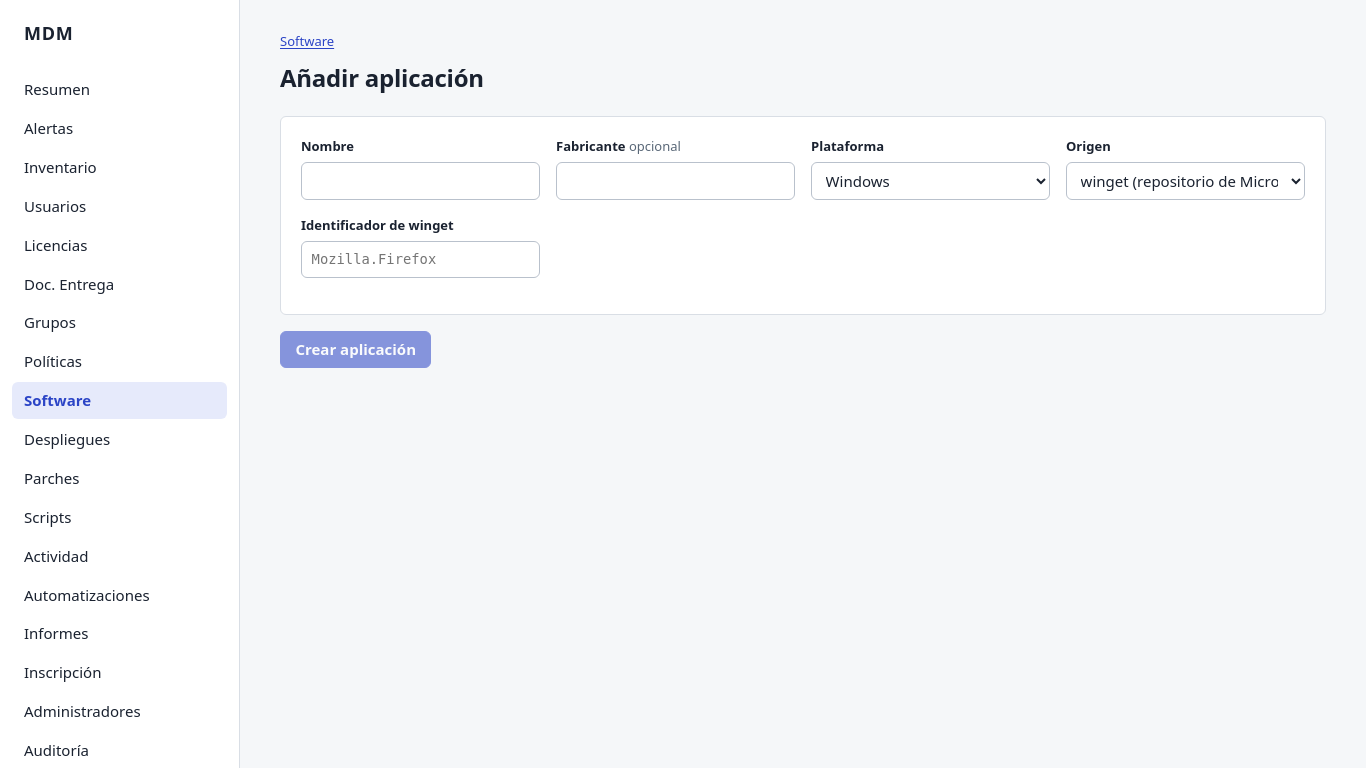
Scenario: Software › el origen se limita según la plataforma
Expected: the option "apt" is not shown
Select "Linux" in the dropdown labelled "Plataforma" at (930, 181), box x1=811 y1=162 x2=1050 y2=200
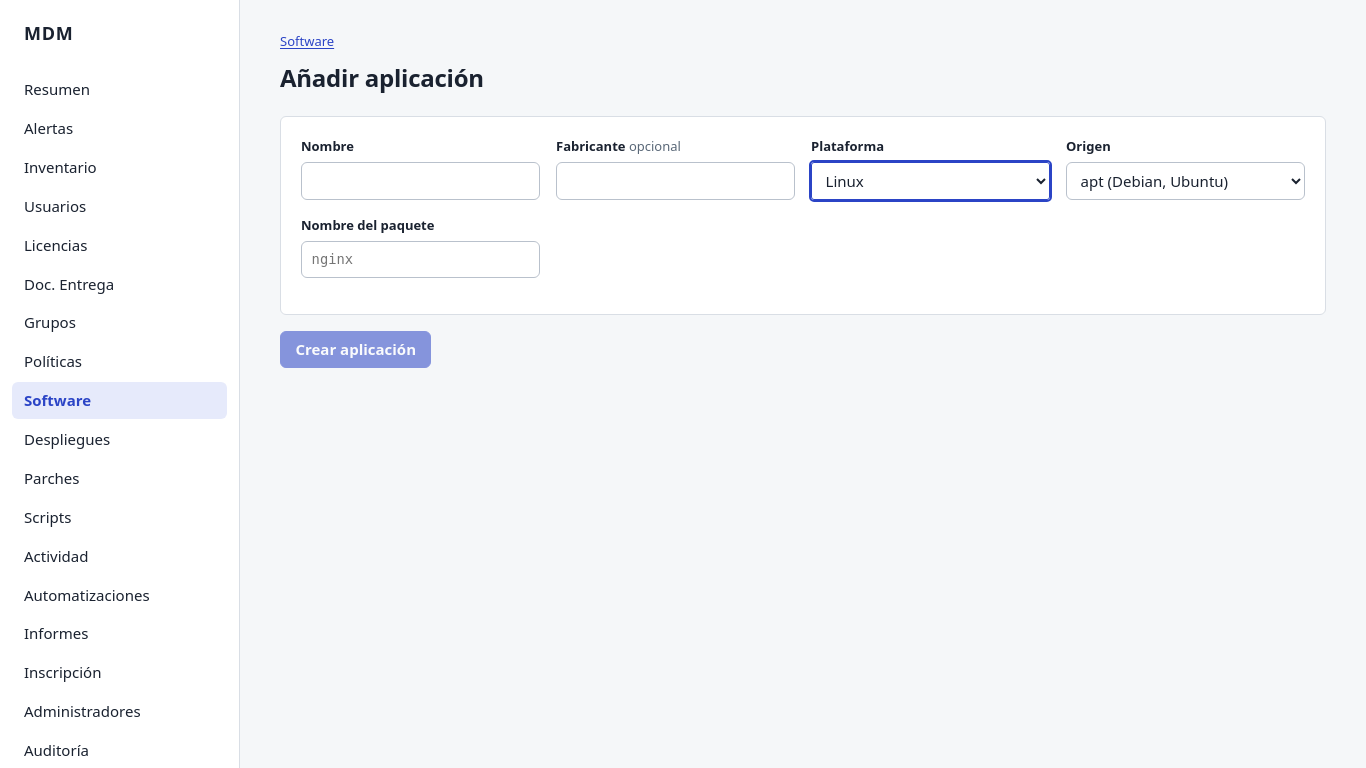
Now the text "winget" is gone
